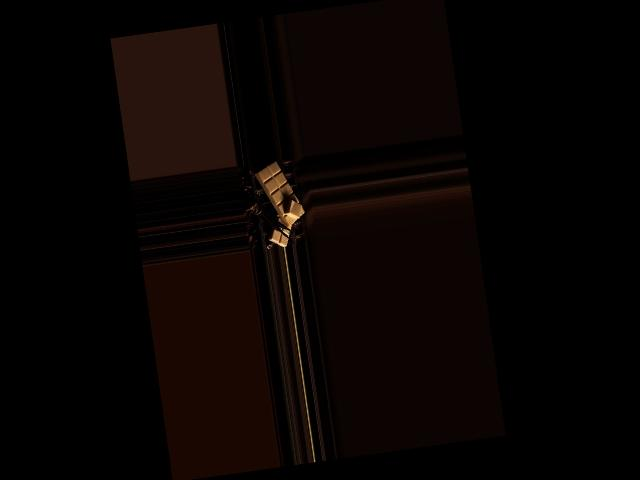chocolate: (254, 159, 306, 232)
